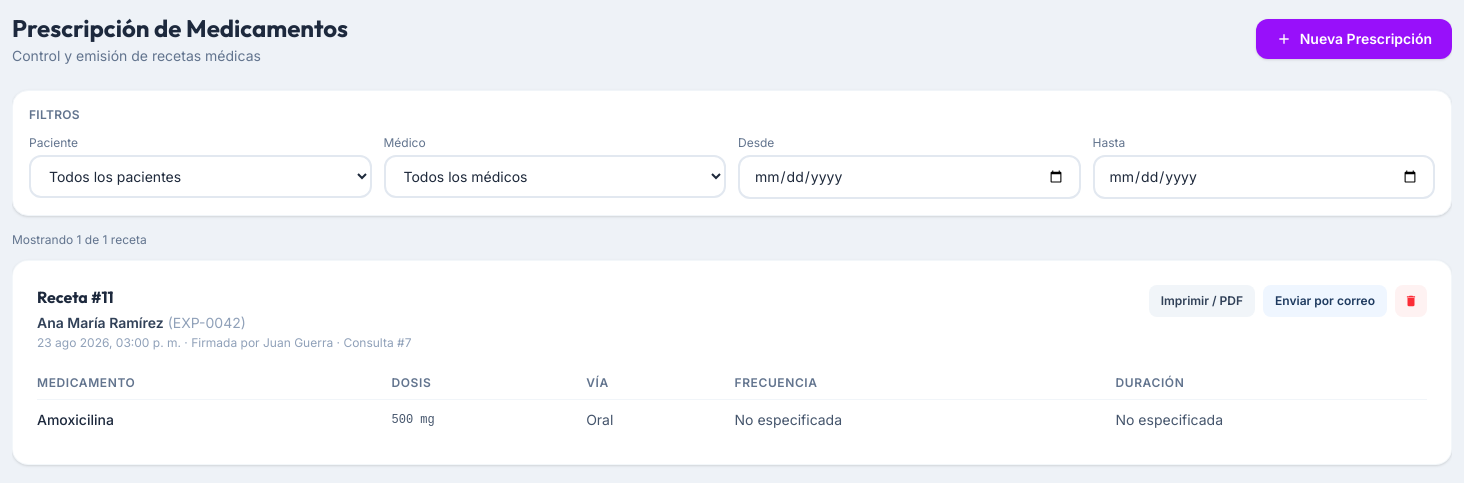
recetas · estados vacíos › con un filtro activo y sin resultados, dice que no calzan con el filtro
Expected: the heading "Receta #11" is shown, [37, 287, 114, 307]
Select "Ana María Ramírez (EXP-0042)" in the dropdown labelled "Paciente" at (200, 176), box [29, 155, 372, 198]
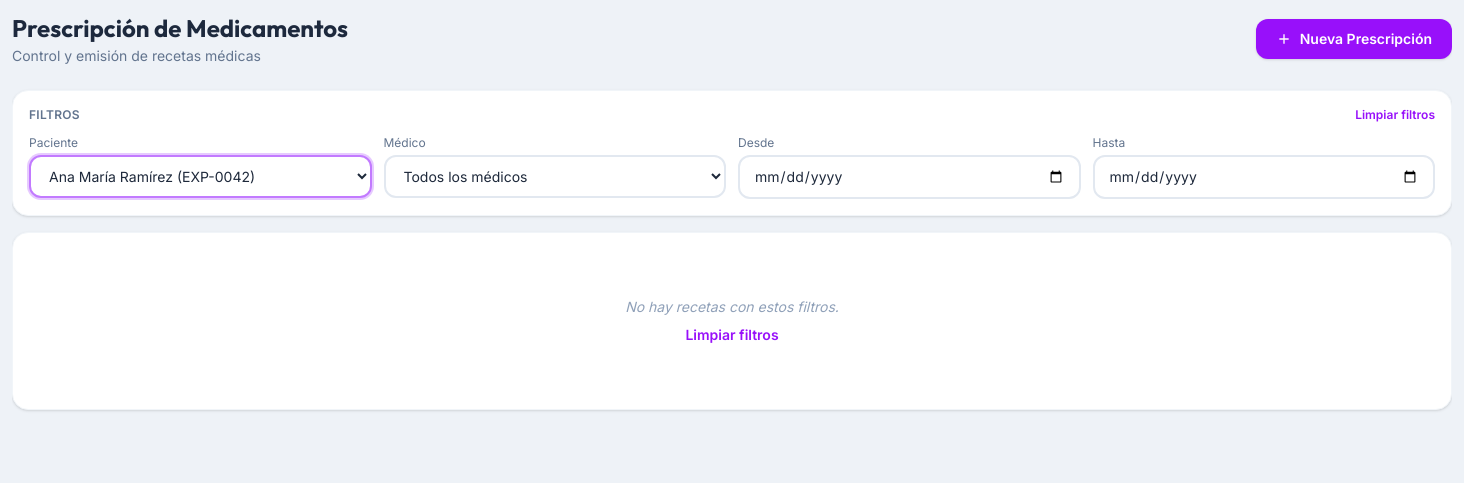
Expected: the text "No hay recetas con estos filtros." is shown, [625, 298, 839, 315]
